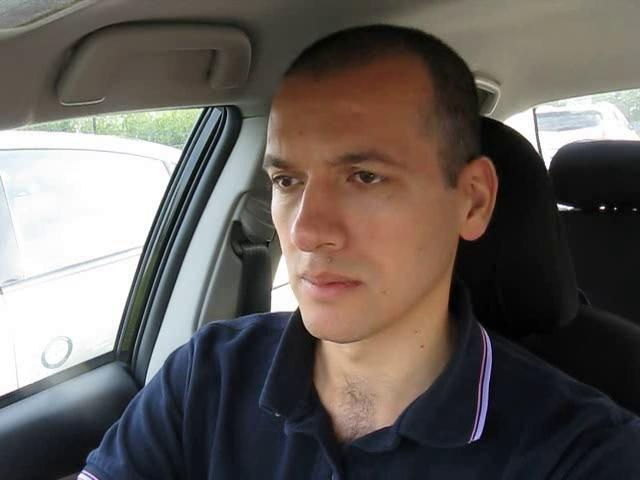no_yawn: (281, 260, 372, 307)
open_eyeL: (258, 164, 307, 199)
open_eyeR: (338, 160, 393, 197)
